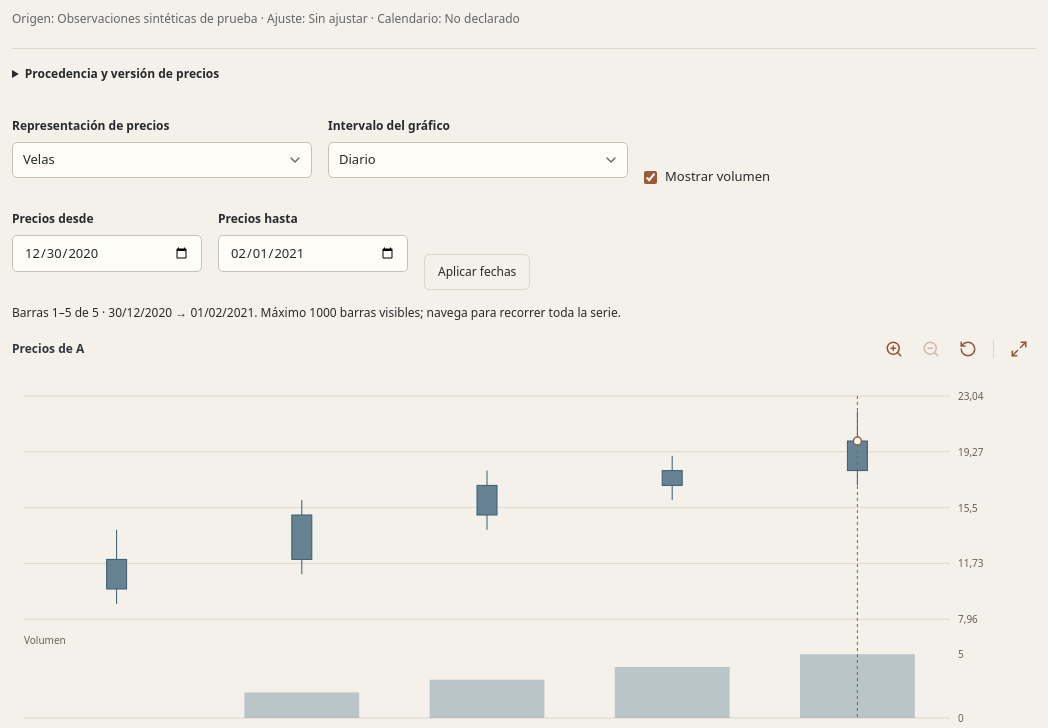
Test: Exploración fiel y accesible de OHLCV › muestra OHLCV semanales exactos y las fechas realmente observadas
Click the dropdown named "Intervalo del gráfico" at (357, 159), box [328,142,628,178]
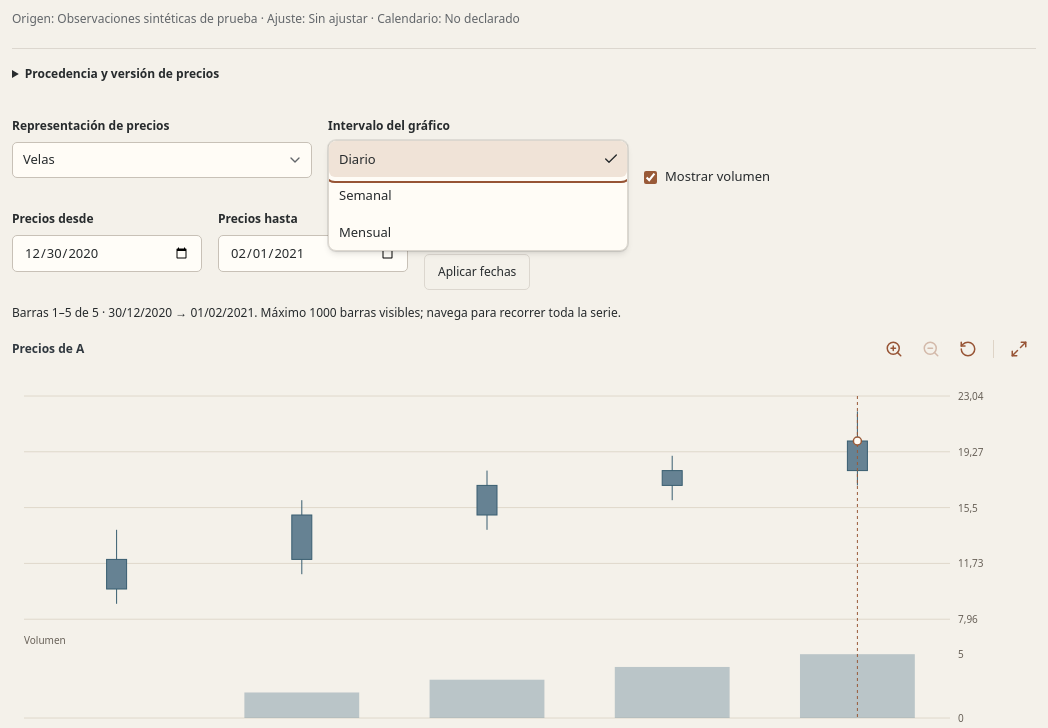
Click the option "Semanal" at (365, 195), box [339,186,392,204]
(page scrolled)
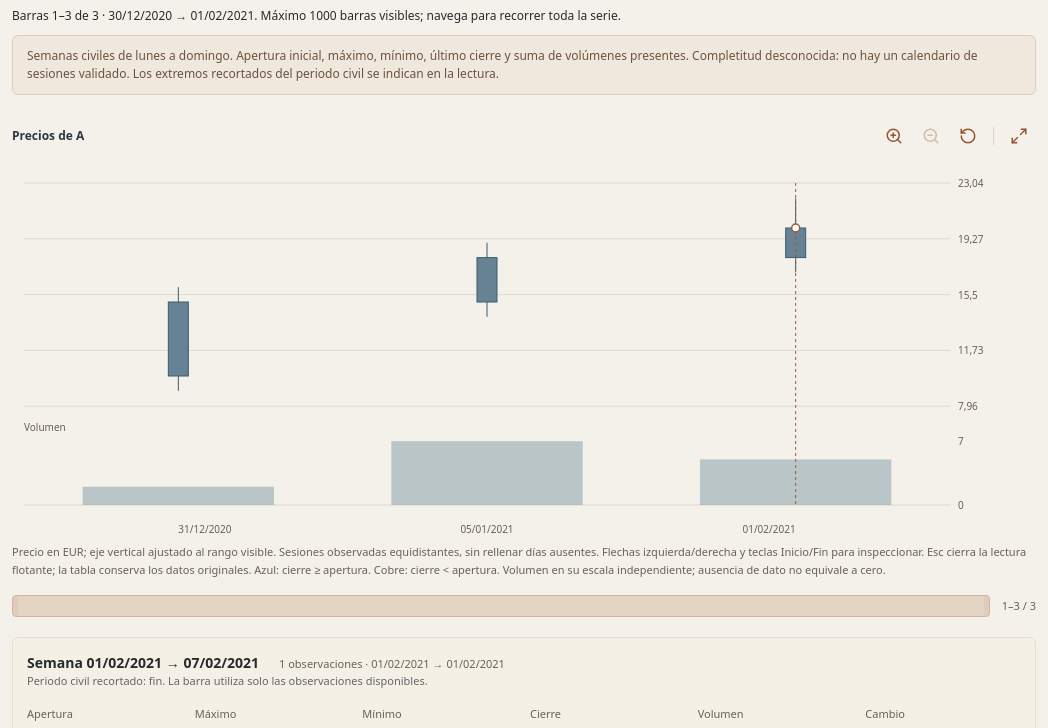
Press Home in the picture named "Gráfico de precios", box [12,163,1036,543]
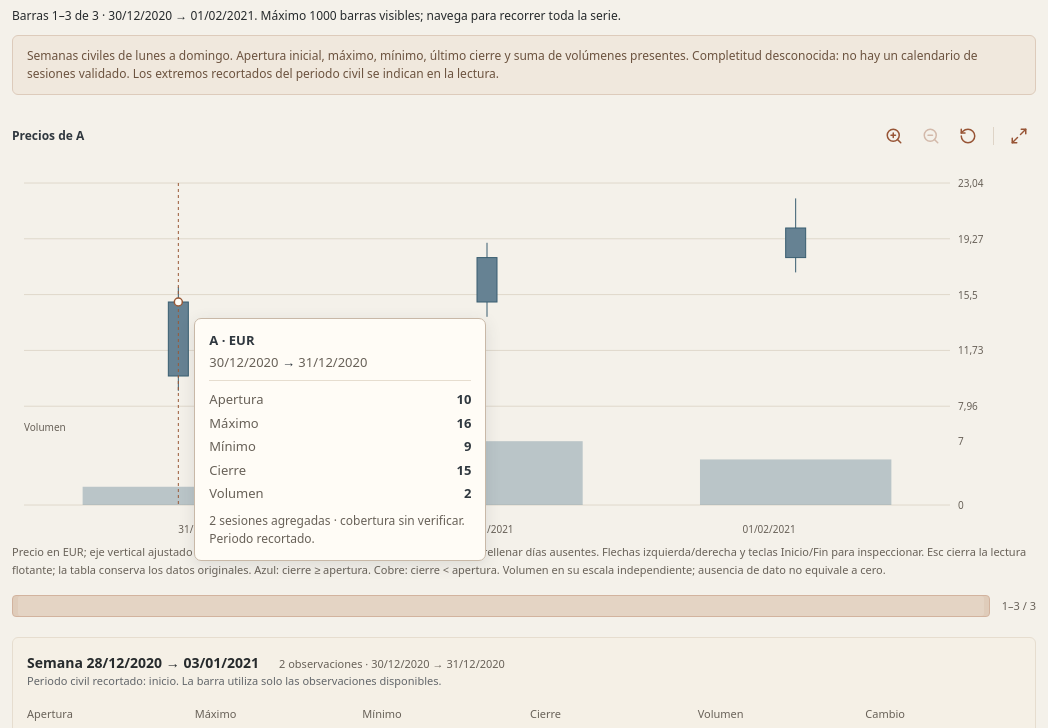
Expected: the text "30/12/2020" is shown, [209,352,278,370]
Expected: the text "31/12/2020" is shown, [298,352,368,370]
Expected: the text "10" holds "10", [456,390,471,408]
